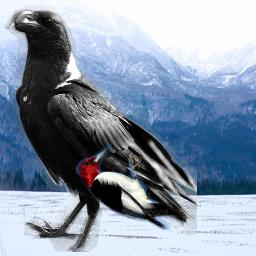Crow: (4, 5, 197, 252)
Woodpecker: (65, 143, 187, 235)
